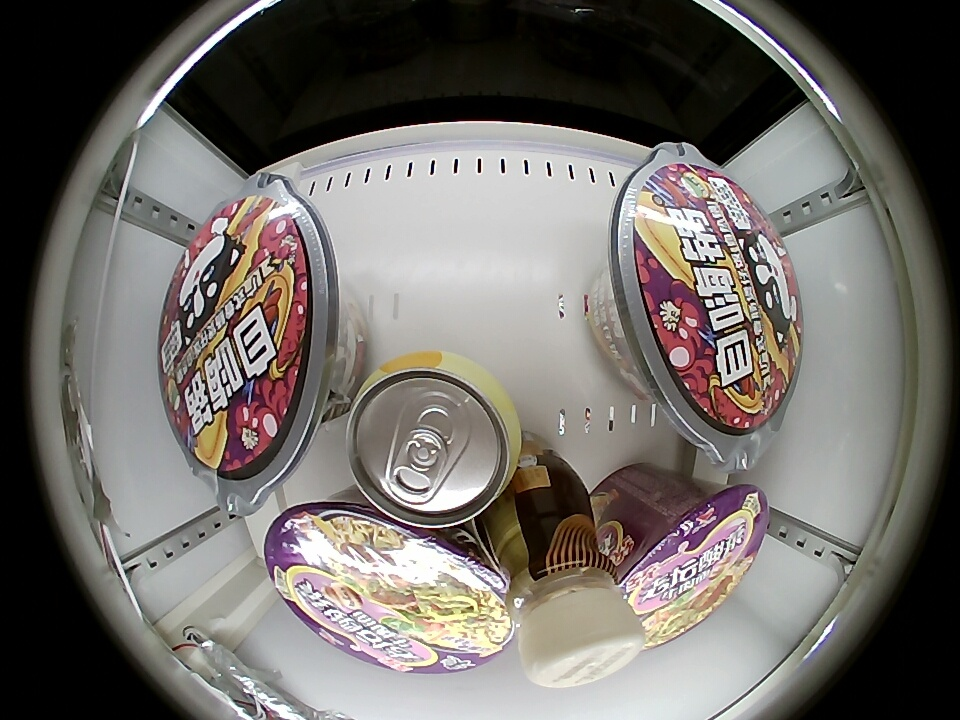kafei: (500, 510, 644, 689)
laotansuancai: (264, 503, 513, 675), (615, 483, 769, 646)
mangguoxiaolao: (347, 351, 521, 527)
zihaiguo: (632, 164, 801, 433), (162, 196, 315, 478)
